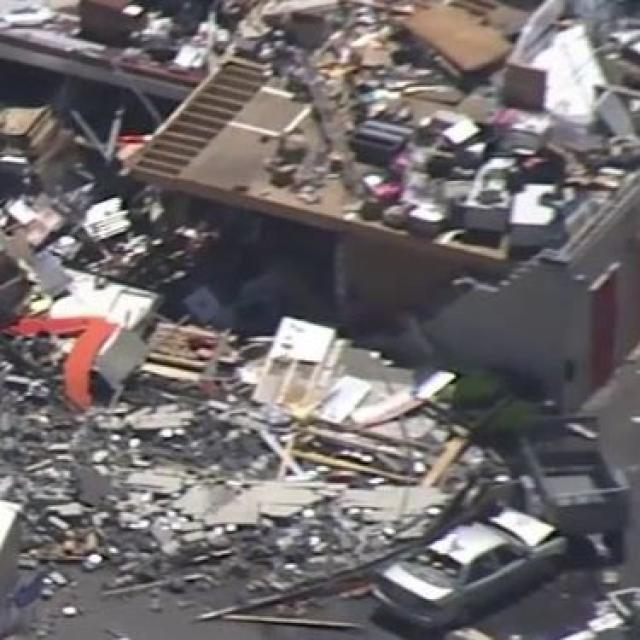collapsed_building: (4, 20, 602, 420)
